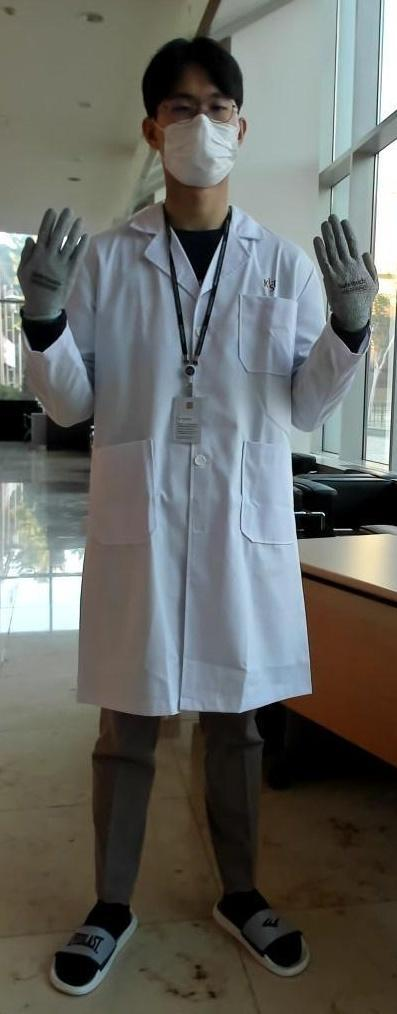lab_coat: (96, 220, 312, 711)
